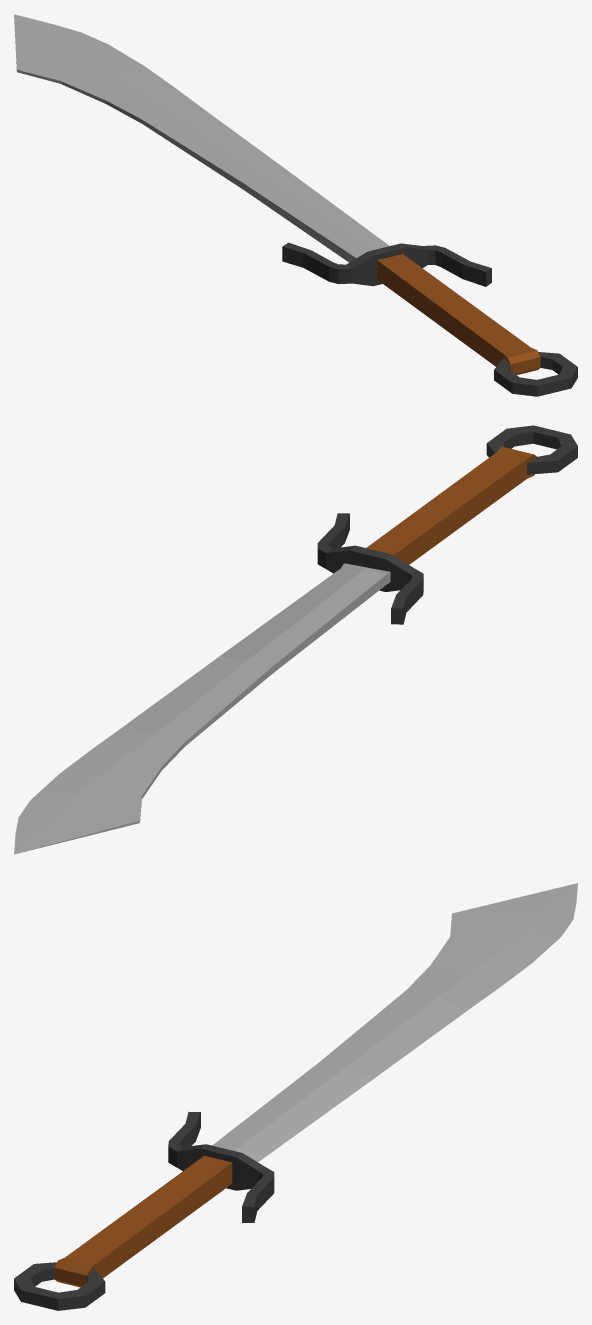
The model's file is Nandao - Textured Low Poly Asian Weapon Pack by Kickin It Studios.fbx.
The picture shows the model from 3 angles, top to bottom: view 1: azimuth 30°, elevation 25°; view 2: azimuth 150°, elevation 25°; view 3: azimuth 330°, elevation 25°; orthographic projection. The views are drawn at different scales.
Visible parts, largest first — view 1: Nandao; view 2: Nandao; view 3: Nandao.
Boxes of the visible parts, left/top/right/bottom form: Nandao: left=14, top=14, right=577, bottom=396; Nandao: left=14, top=425, right=577, bottom=854; Nandao: left=14, top=883, right=577, bottom=1310.
Size of the model in its own units: 126 by 25.19 by 773.
